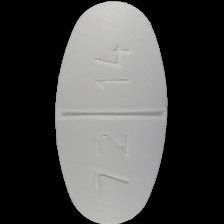0615-7663: (0, 0, 224, 224)
